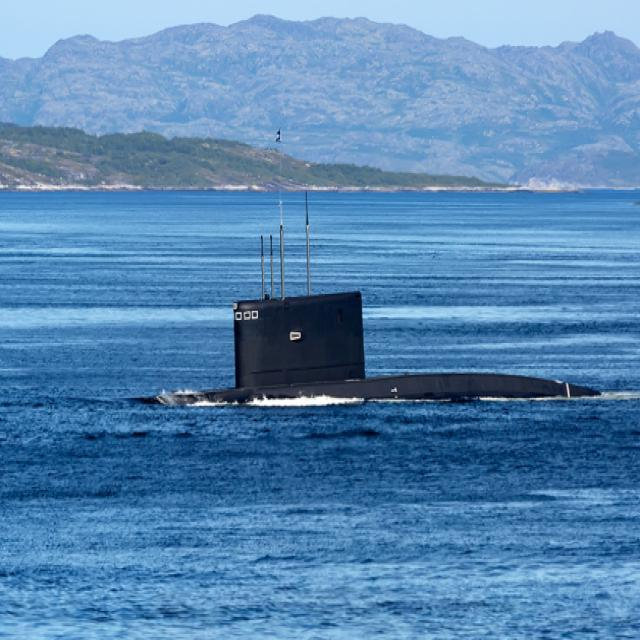submarine: (129, 185, 619, 407)
